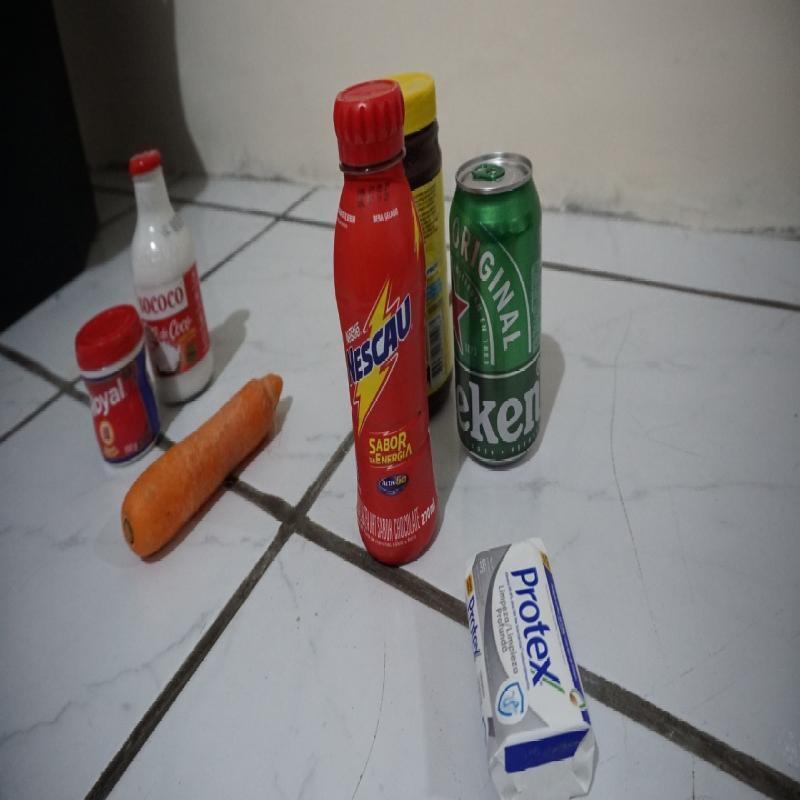Beer can: (453, 136, 541, 470)
Carrot: (127, 383, 297, 594)
Chocolate Milk: (326, 61, 400, 559)
Chocolate Powder: (398, 58, 456, 392)
Coconut Milk: (127, 139, 212, 378)
Soap: (461, 529, 600, 792)
Yeast: (77, 316, 153, 470)
